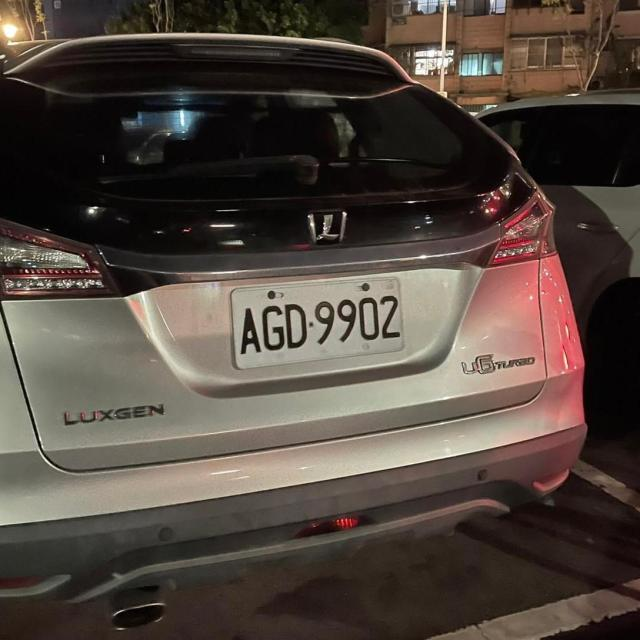W: (220, 268, 416, 374)
